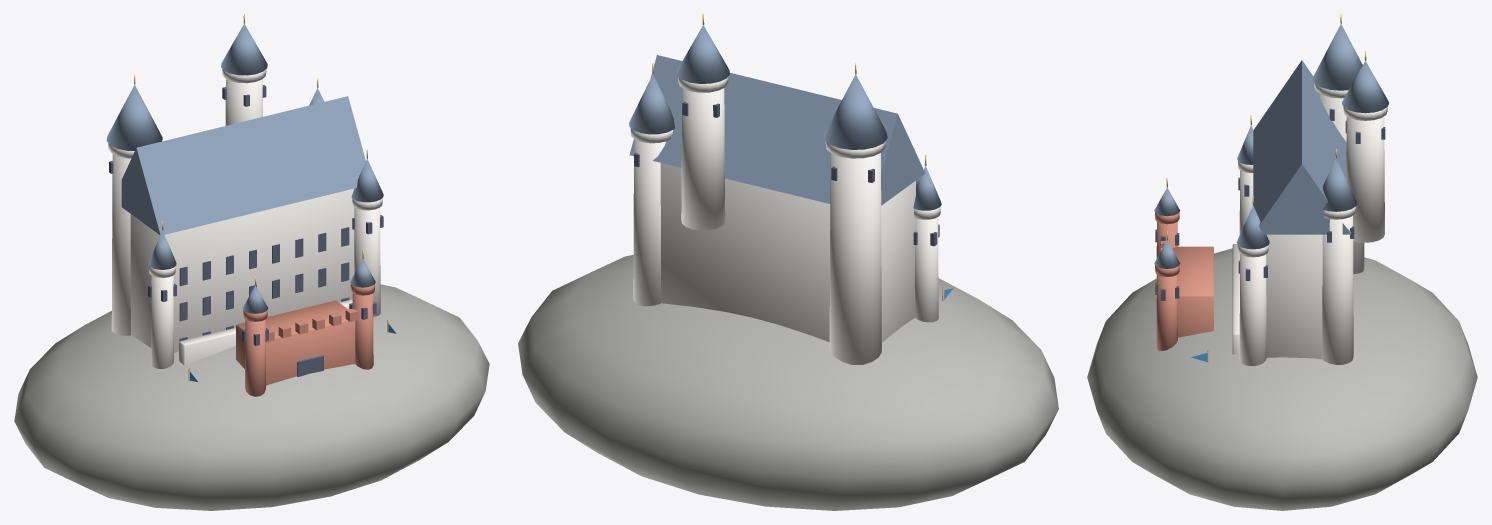
File: landmarks.glb
3 views of the same model, side by side, from view 1: azimuth 30°, elevation 25°; view 2: azimuth 150°, elevation 25°; view 3: azimuth 270°, elevation 25° (orthographic). The views are drawn at different scales.
Visible parts, largest first — view 1: LM_Castle; view 2: LM_Castle; view 3: LM_Castle.
Boxes of the visible parts, bbox=[...] form: LM_Castle: bbox=[14, 14, 489, 510]; LM_Castle: bbox=[518, 14, 1058, 510]; LM_Castle: bbox=[1087, 14, 1477, 510].
Size of the model in its own units: 52 by 47.7 by 40.
